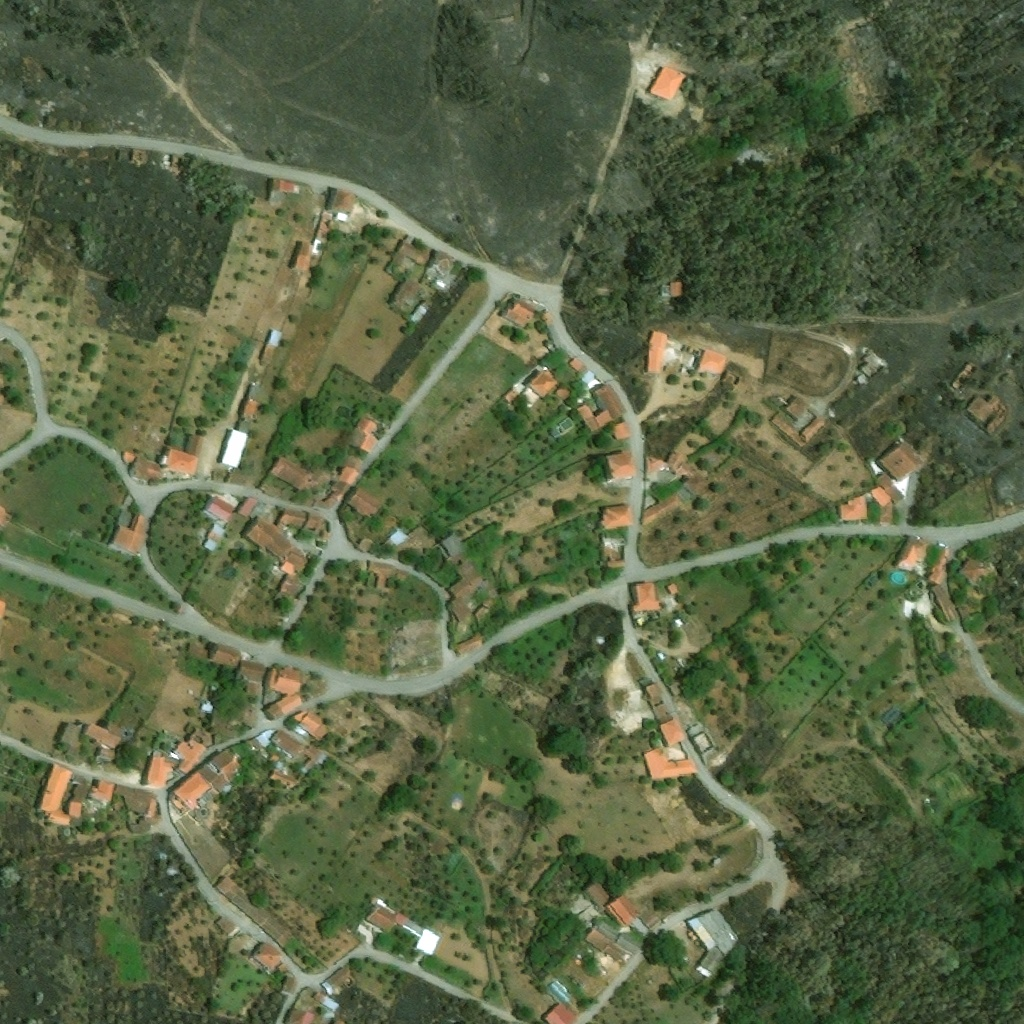0 no-damage: (875, 438, 925, 485), (770, 412, 827, 449), (699, 907, 742, 954), (448, 549, 486, 599), (38, 764, 73, 812), (386, 269, 425, 310), (230, 889, 271, 926), (244, 515, 287, 550), (894, 533, 932, 572), (210, 743, 247, 782), (270, 453, 309, 489), (641, 492, 681, 527), (349, 485, 387, 521), (174, 771, 212, 807), (218, 427, 250, 469), (594, 380, 628, 419), (260, 915, 296, 951), (607, 891, 642, 927), (928, 582, 958, 624), (502, 298, 540, 331), (110, 523, 147, 556), (174, 737, 207, 774), (250, 940, 284, 974), (686, 916, 719, 951), (266, 665, 304, 695), (114, 783, 148, 816), (196, 763, 232, 794), (300, 462, 335, 493), (325, 186, 361, 216), (270, 727, 306, 757), (85, 722, 124, 749), (605, 448, 637, 480), (526, 367, 559, 398), (957, 555, 990, 586), (540, 973, 573, 1004), (299, 710, 330, 742), (166, 447, 199, 477), (146, 753, 174, 788), (208, 641, 244, 668), (368, 560, 398, 592), (583, 879, 613, 910), (631, 582, 661, 612), (366, 904, 396, 934), (453, 632, 486, 659), (276, 571, 306, 600), (440, 528, 468, 558), (600, 504, 633, 529), (782, 392, 811, 420), (698, 349, 726, 378), (613, 929, 643, 956), (654, 763, 698, 781), (415, 928, 442, 957), (207, 496, 237, 522), (576, 403, 601, 434), (86, 778, 117, 803), (268, 768, 300, 792), (840, 495, 868, 522), (290, 239, 313, 271), (701, 947, 728, 974), (216, 873, 242, 901), (592, 915, 620, 941), (606, 942, 634, 968), (659, 718, 684, 747), (479, 564, 503, 594), (130, 458, 162, 480), (269, 534, 295, 561), (446, 599, 472, 626), (56, 721, 83, 747), (351, 430, 379, 455), (283, 548, 309, 574), (128, 815, 163, 834), (316, 210, 336, 243), (585, 928, 612, 952), (684, 470, 710, 494), (666, 448, 690, 474), (566, 892, 592, 916), (432, 250, 459, 273), (388, 524, 413, 548), (239, 660, 266, 682), (648, 696, 670, 723), (276, 692, 303, 714), (328, 478, 352, 502), (397, 240, 422, 263), (577, 904, 602, 927), (542, 1007, 577, 1023), (356, 414, 380, 437), (237, 494, 259, 519), (304, 747, 329, 769), (288, 1005, 318, 1023), (304, 511, 328, 533), (237, 398, 258, 423), (184, 432, 205, 457), (340, 464, 362, 487), (593, 406, 615, 428), (632, 917, 654, 939), (64, 744, 87, 765), (673, 484, 694, 506), (553, 416, 575, 437), (280, 508, 307, 525), (259, 479, 283, 498), (224, 469, 249, 487), (648, 344, 664, 372), (579, 368, 600, 389), (403, 918, 425, 938), (184, 643, 211, 659), (105, 720, 129, 738), (389, 251, 410, 271), (645, 453, 666, 473), (871, 486, 892, 506), (308, 496, 340, 509), (309, 238, 327, 261), (49, 808, 72, 826), (932, 547, 950, 570), (649, 329, 669, 349), (265, 702, 285, 722), (347, 453, 367, 473), (247, 383, 266, 404), (258, 344, 276, 366), (254, 729, 276, 747), (415, 251, 434, 271), (281, 974, 300, 994), (131, 513, 149, 534), (874, 472, 893, 491), (885, 483, 904, 502), (613, 421, 631, 441), (520, 386, 540, 404), (650, 749, 665, 772), (568, 356, 587, 374), (644, 680, 663, 698), (925, 566, 944, 584), (117, 511, 135, 529), (146, 790, 158, 817), (265, 329, 282, 348), (696, 963, 715, 980), (356, 536, 375, 553), (71, 783, 87, 803), (682, 342, 702, 357), (555, 385, 572, 402), (247, 737, 264, 754), (323, 996, 341, 1012), (120, 449, 137, 465), (246, 680, 263, 696), (294, 724, 311, 740), (880, 502, 892, 524), (503, 389, 519, 405), (266, 748, 282, 764), (668, 681, 683, 698), (394, 911, 409, 927), (601, 537, 627, 546), (473, 605, 488, 620), (221, 919, 236, 934), (202, 537, 218, 551), (662, 596, 678, 610), (211, 468, 227, 482), (543, 310, 555, 328), (71, 774, 89, 786), (211, 523, 226, 537), (207, 529, 222, 543), (321, 1004, 336, 1018), (687, 724, 701, 738), (314, 989, 328, 1003), (669, 283, 682, 298), (200, 700, 215, 713), (292, 711, 307, 724), (97, 747, 116, 757), (215, 914, 229, 927), (404, 232, 417, 245), (677, 612, 690, 625), (301, 745, 315, 757), (69, 800, 81, 814), (603, 548, 618, 559), (331, 1014, 348, 1023), (207, 787, 219, 799), (336, 211, 349, 222), (606, 560, 625, 567), (660, 284, 669, 298), (158, 454, 168, 466), (277, 962, 288, 972), (656, 650, 665, 662), (669, 275, 682, 283), (275, 760, 285, 770), (674, 619, 684, 629), (959, 608, 968, 619), (300, 765, 310, 774), (377, 898, 387, 907), (670, 585, 678, 596), (636, 617, 645, 626), (666, 744, 677, 751), (322, 530, 330, 539)
1 minor-damage: (131, 148, 148, 167)
2 major-damage: (965, 394, 1003, 422), (328, 965, 358, 989), (320, 979, 337, 996), (171, 153, 185, 172), (163, 153, 173, 167)
3 destroyed: (862, 346, 892, 378), (960, 360, 982, 381), (856, 371, 872, 387)
4 un-classified: (0, 506, 11, 530), (0, 600, 8, 628), (571, 972, 584, 985), (668, 787, 680, 798), (960, 618, 975, 624), (875, 582, 884, 590), (0, 393, 5, 407), (634, 404, 644, 411), (842, 602, 849, 609), (0, 371, 4, 380)
